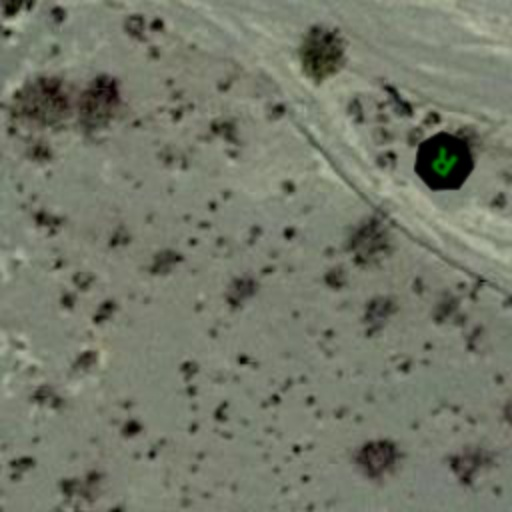heptagon: (398, 116, 490, 208)
